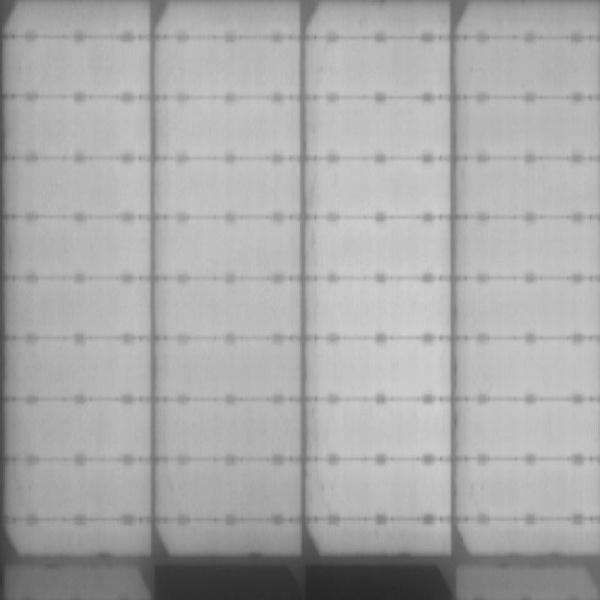no_electricity: (152, 565, 455, 600)
